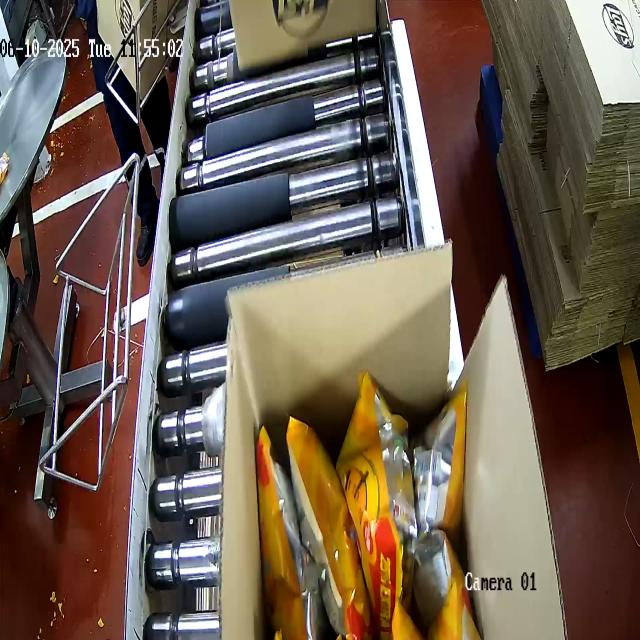FRENCH_CHEESE: (247, 365, 487, 640)
